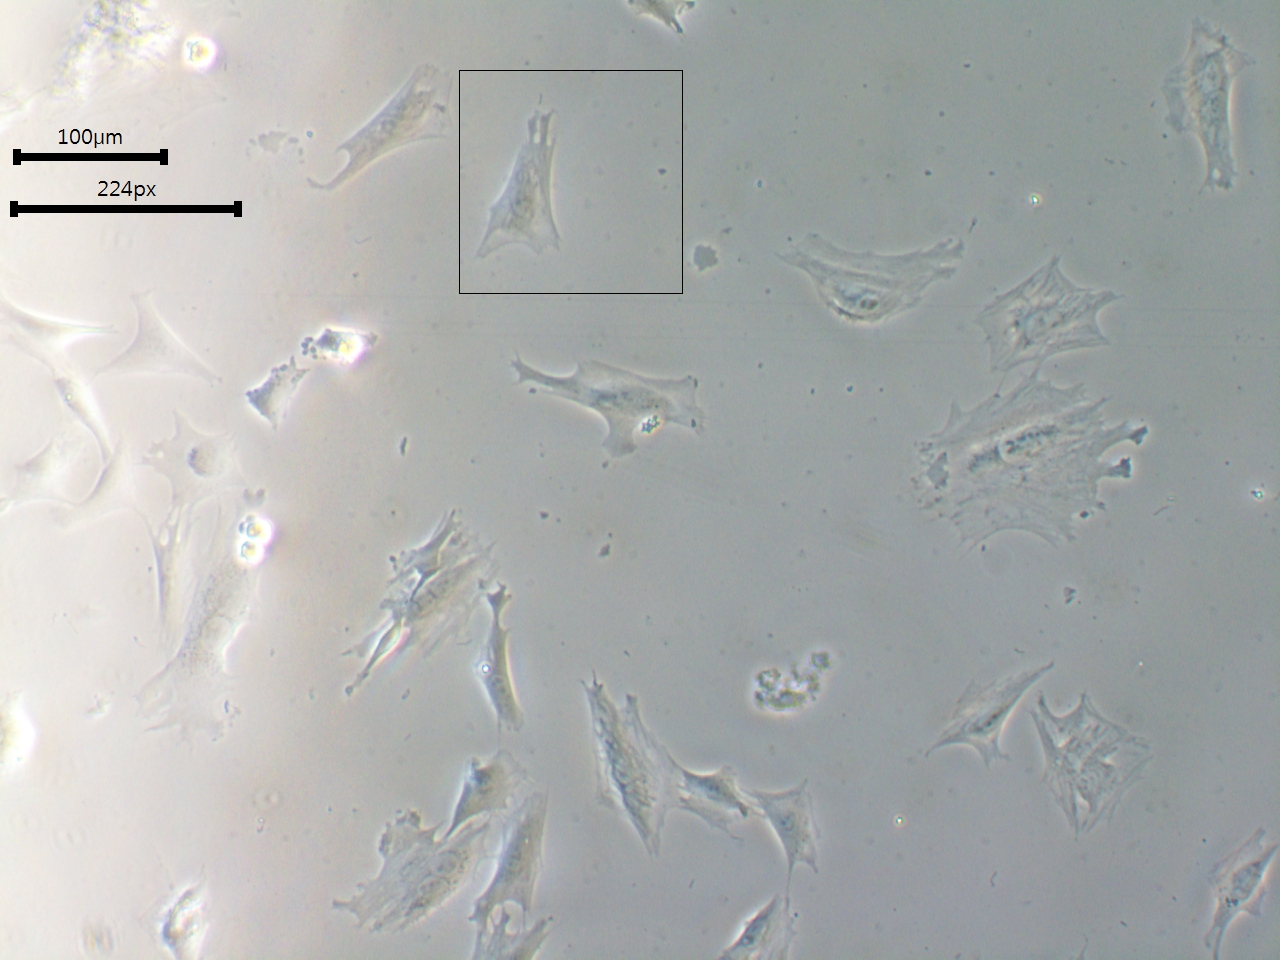dividing: (347, 502, 493, 704), (332, 790, 496, 936), (1155, 6, 1251, 205)
medium-polygonal: (473, 345, 726, 467), (301, 50, 451, 208), (467, 89, 588, 272), (923, 647, 1051, 781), (1182, 817, 1280, 955), (475, 788, 567, 929), (480, 587, 552, 745)
medium-spread: (901, 368, 1171, 558), (1016, 678, 1164, 854), (774, 220, 976, 345), (972, 248, 1132, 372)
small-polygonal: (753, 775, 836, 891), (678, 753, 768, 849), (436, 747, 531, 832), (236, 349, 316, 428)
